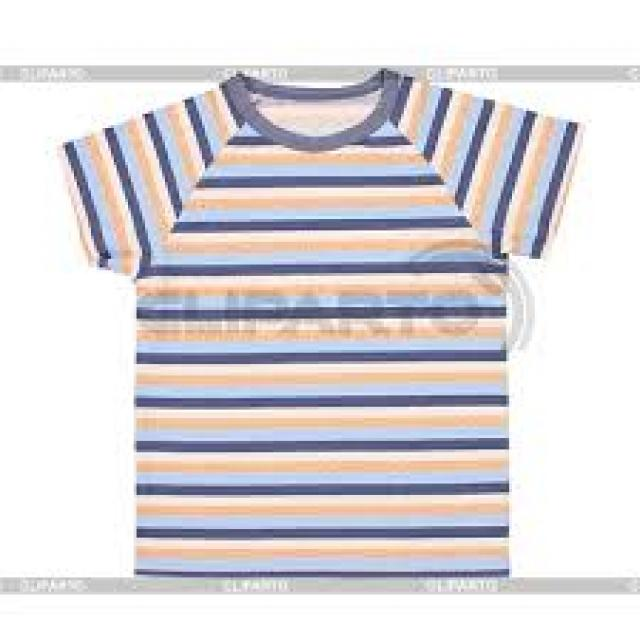Shirt: (60, 57, 572, 602)
